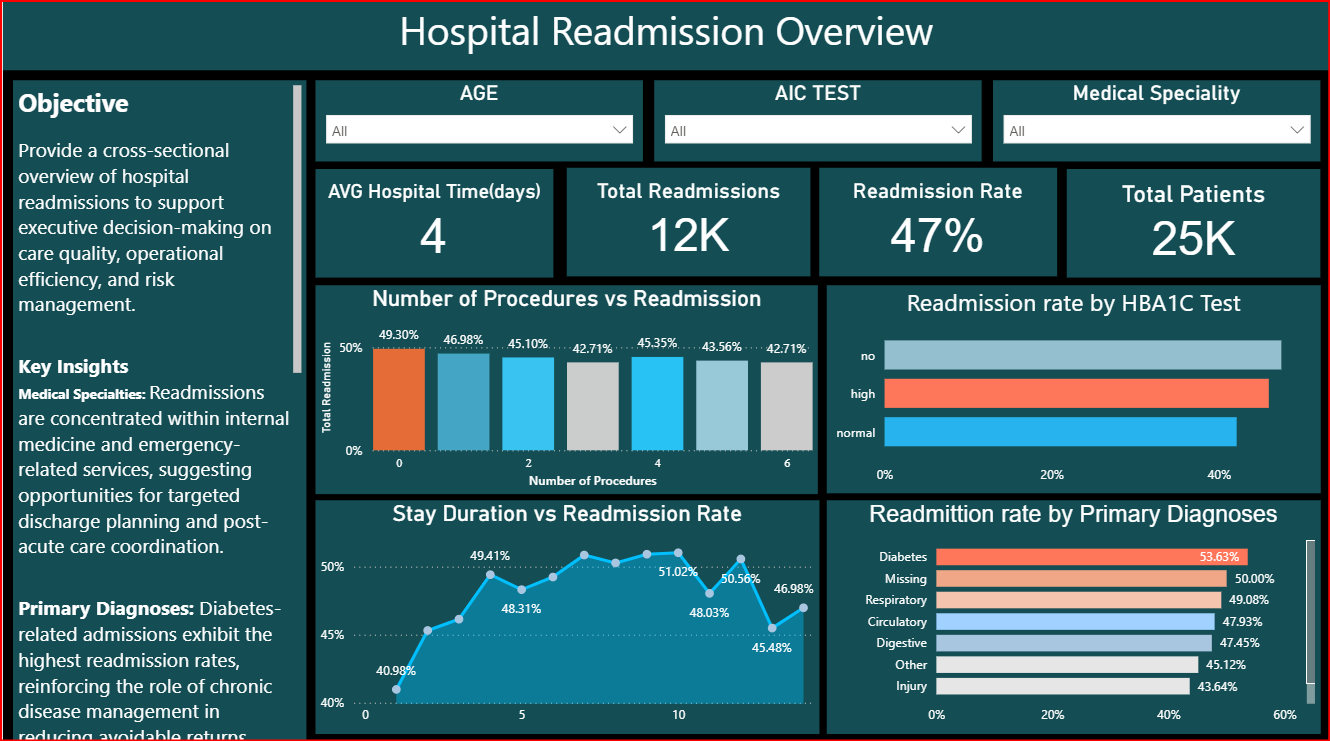

This screenshot's page, from the dashboard's own definition file:
{"tool":"powerbi","page":{"name":"Executive Summary","canvas":[1280,720],"ordinal":0},"visuals":[{"type":"textbox","box":[9.7,78.4,283.5,641.8],"z":0},{"type":"textbox","box":[0,0,1280,68.8],"z":1000},{"type":"slicer","title":"AIC TEST","fields":{"Values":["RAW_Diagnosis.A1Ctest"]},"box":[628.6,78.4,316.1,78],"z":2000},{"type":"slicer","title":"AGE","fields":{"Values":["Raw patients.Pat_age"]},"box":[301.6,78.4,316.1,78.4],"z":3000},{"type":"slicer","title":"Medical Speciality","fields":{"Values":["_Raw Encounters.medical_specialty"]},"box":[955.5,78.4,316.1,78],"z":4000},{"type":"card","title":"AVG Hospital  Time(days)","fields":{"Values":["Sum(TOP KPI.AVG_Hospital_days)"]},"box":[301.6,164.1,229.2,105],"z":5000},{"type":"card","title":"Total Readmissions","fields":{"Values":["Sum(TOP KPI.Readmitted_patients)"]},"box":[544.1,162.9,235.3,105],"z":6000},{"type":"card","title":"Readmission Rate","fields":{"Values":["Sum(TOP KPI.Readmission_Rate_Percent)"]},"box":[787.4,162.9,229.2,105],"z":7000},{"type":"card","title":"Total Patients","fields":{"Values":["Sum(TOP KPI.total_patients)"]},"box":[1026.7,164.1,244.9,105],"z":8000},{"type":"lineChart","title":"Stay Duration vs Readmission Rate","fields":{"Y":["_Raw Encounters.Readmission Rate"],"Category":["_Raw Encounters.time_in_hospital"]},"box":[301.6,483.8,486.2,225.6],"z":9000},{"type":"barChart","title":"Readmittion rate by Primary Diagnoses","fields":{"Category":["Top_diagnosis.primary_diagnosis"],"Y":["Sum(Top_diagnosis.Readmission_Rate_Percent)"]},"box":[795,483.8,476.5,225.6],"z":10000},{"type":"columnChart","title":"Number of Procedures vs Readmission","fields":{"Y":["_Raw Encounters.Readmission Rate"],"Category":["_Raw Encounters.n_procedures"]},"box":[301.6,276.3,485,201.5],"z":11000},{"type":"barChart","title":"Readmission rate by HBA1C Test","fields":{"Y":["_Raw Encounters.Readmission Rate by A1C_test"],"Category":["RAW_Diagnosis.A1Ctest"]},"box":[795,276.3,476.5,201],"z":12000}]}

Visuals, with their boxes in screenshot pixels (x1, y1, x2, y2), scaled from the page's 1280x720 canvas onto the 1330x741 screenshot:
textbox: x1=10 y1=81 x2=305 y2=740
textbox: x1=0 y1=0 x2=1329 y2=71
"AIC TEST" slicer: x1=653 y1=81 x2=982 y2=161
"AGE" slicer: x1=313 y1=81 x2=642 y2=161
"Medical Speciality" slicer: x1=993 y1=81 x2=1321 y2=161
"AVG Hospital  Time(days)" card: x1=313 y1=169 x2=552 y2=277
"Total Readmissions" card: x1=565 y1=168 x2=810 y2=276
"Readmission Rate" card: x1=818 y1=168 x2=1056 y2=276
"Total Patients" card: x1=1067 y1=169 x2=1321 y2=277
"Stay Duration vs Readmission Rate" lineChart: x1=313 y1=498 x2=819 y2=730
"Readmittion rate by Primary Diagnoses" barChart: x1=826 y1=498 x2=1321 y2=730
"Number of Procedures vs Readmission" columnChart: x1=313 y1=284 x2=817 y2=492
"Readmission rate by HBA1C Test" barChart: x1=826 y1=284 x2=1321 y2=491
